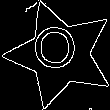O_S: (37, 28, 83, 80)
